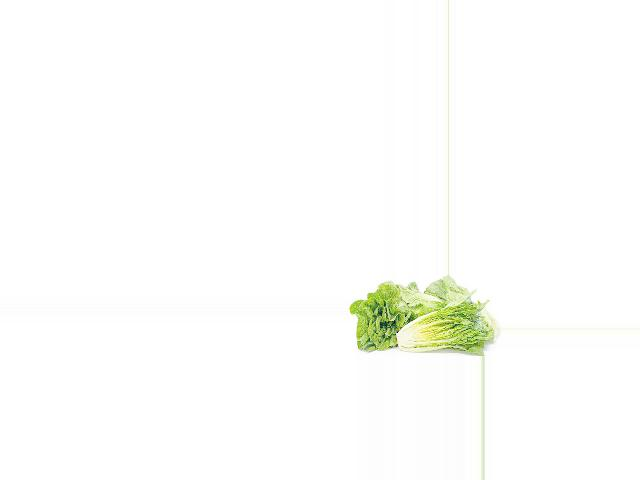lettuce: (352, 281, 439, 357)
